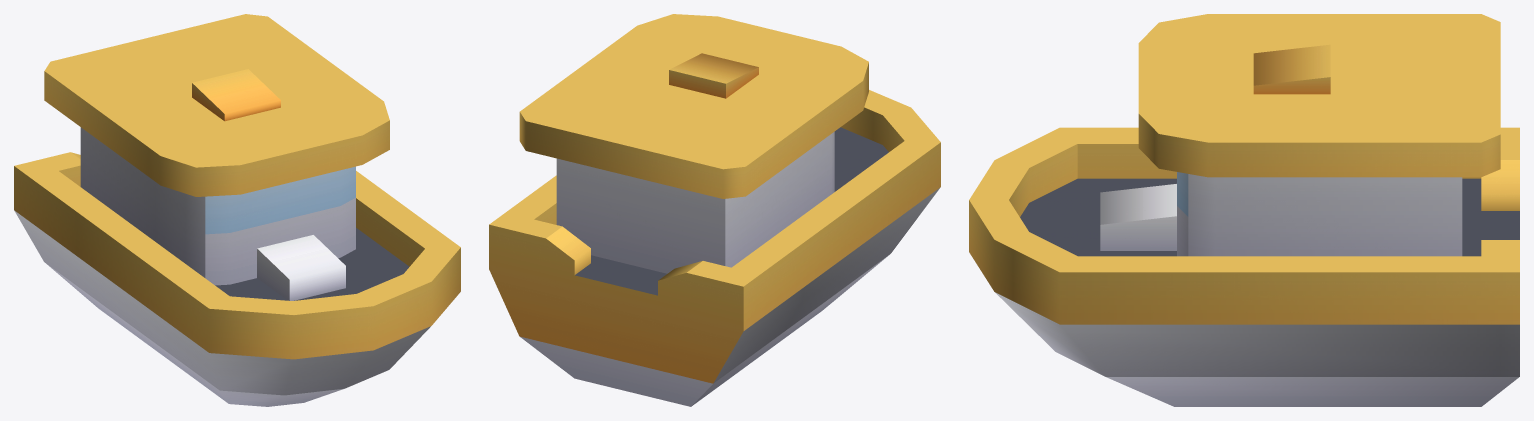
File: boat-tug-c-transformed-transformed.glb
3 views of the same model, side by side, from view 1: azimuth 30°, elevation 25°; view 2: azimuth 150°, elevation 25°; view 3: azimuth 270°, elevation 25° (orthographic). The views are drawn at different scales.
Parts seen in each view (by area): view 1: boat-tug-c; view 2: boat-tug-c; view 3: boat-tug-c.
Boxes of the visible parts, x1,y1,x2,y2 form: boat-tug-c: [14, 14, 460, 406]; boat-tug-c: [489, 14, 940, 406]; boat-tug-c: [969, 14, 1519, 406].
Bounding box in the file's own units: 1.78 × 1.8 × 2.87.
Materials: 1 (1 with a texture image).
